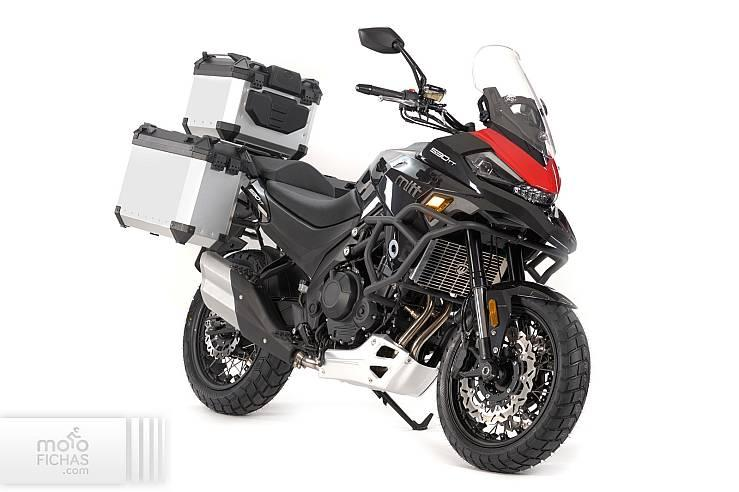engine-chasis: (272, 238, 462, 430)
exhaust: (200, 250, 317, 370), (411, 303, 453, 360), (398, 295, 435, 348)
frontside: (341, 42, 578, 381)
handlebar: (355, 27, 475, 132)
motorbike: (115, 27, 588, 470)
rearside: (113, 50, 360, 371), (323, 174, 357, 197)
seat: (258, 176, 361, 228), (253, 156, 336, 198)
tank: (355, 142, 431, 218)
watermark: (0, 416, 176, 485)
wheel: (436, 292, 588, 471), (182, 289, 291, 413), (484, 235, 494, 275), (495, 236, 503, 282)
